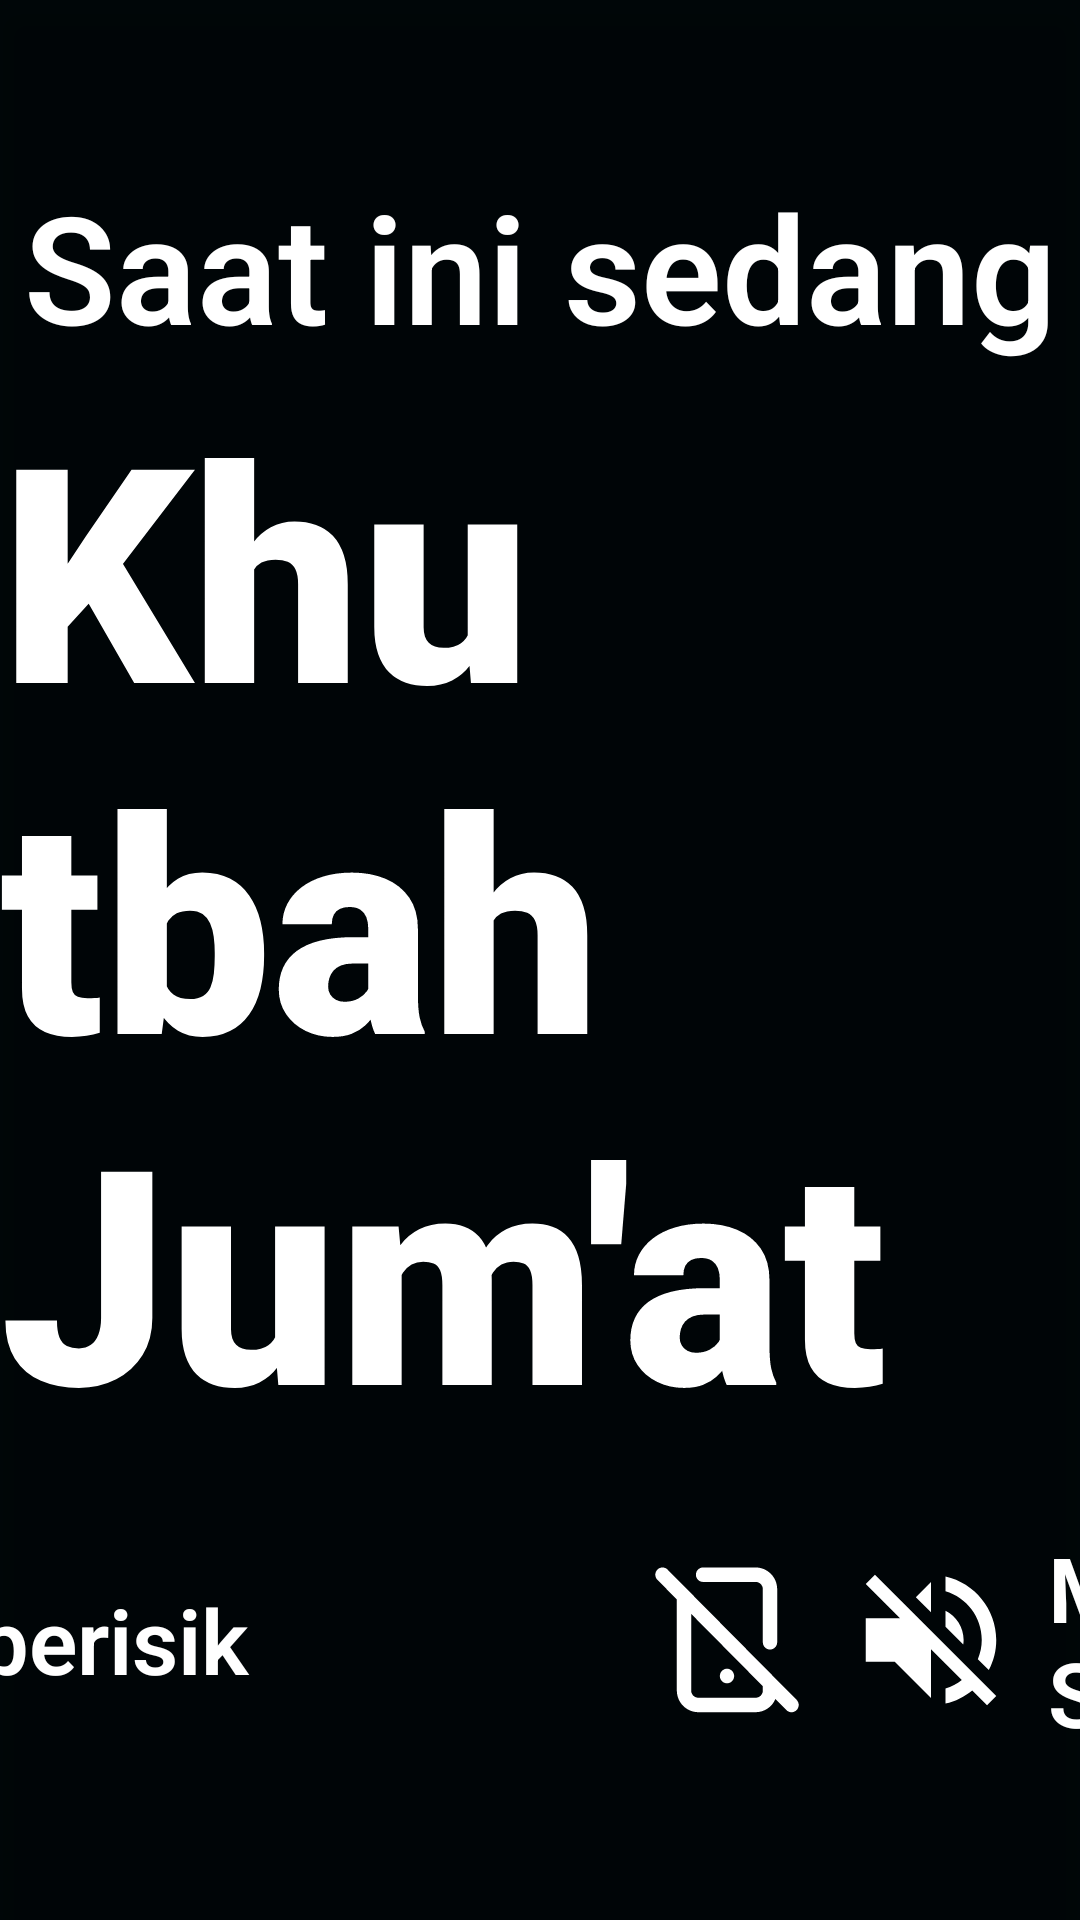

Screen size 1080 x 1920. Icon name, then its center in pixels as point (x, y):
phone slash: point (727, 1640)
volume off: point (931, 1640)
